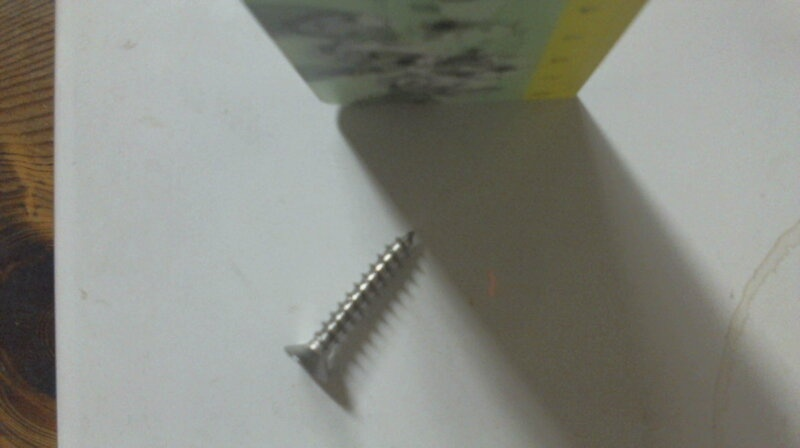S001: (280, 226, 422, 382)
